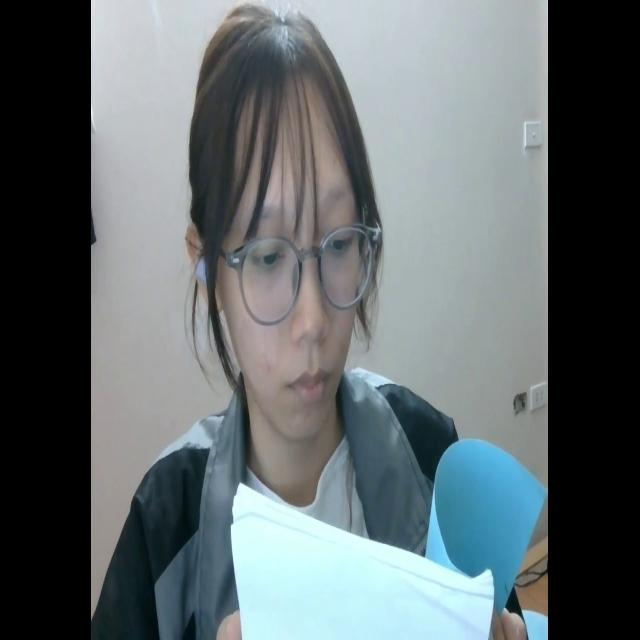book: (235, 446, 548, 640)
student: (103, 0, 529, 640)
